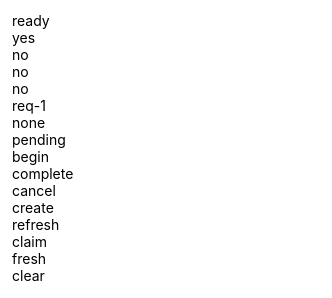
Test case: ParentalConsentProvider claim intent › AUTH HYDRATION RACE: explicit signUp-failure cancel still clears generic claim intent
expect the text with test id "hydrate" reads "ready": met, box [12,12,50,29]
Click the text with test id "begin-claim". click: x=30, y=156
box: [12,148,49,165]
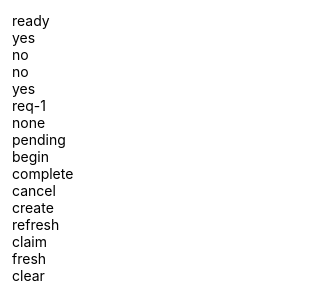
expect the text with test id "awaiting" reads "yes": met, box [12,80,35,97]
Click the text with test id "cancel-claim". click: x=34, y=190
box: [12,182,56,199]
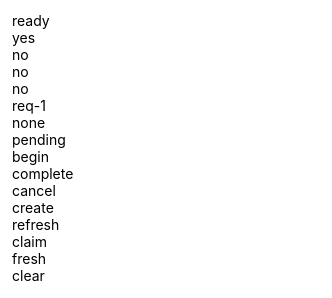
expect the text "req-1" is shown: met, box [12,97,46,114]
expect the text with test id "awaiting" reads "no": met, box [12,80,29,97]
